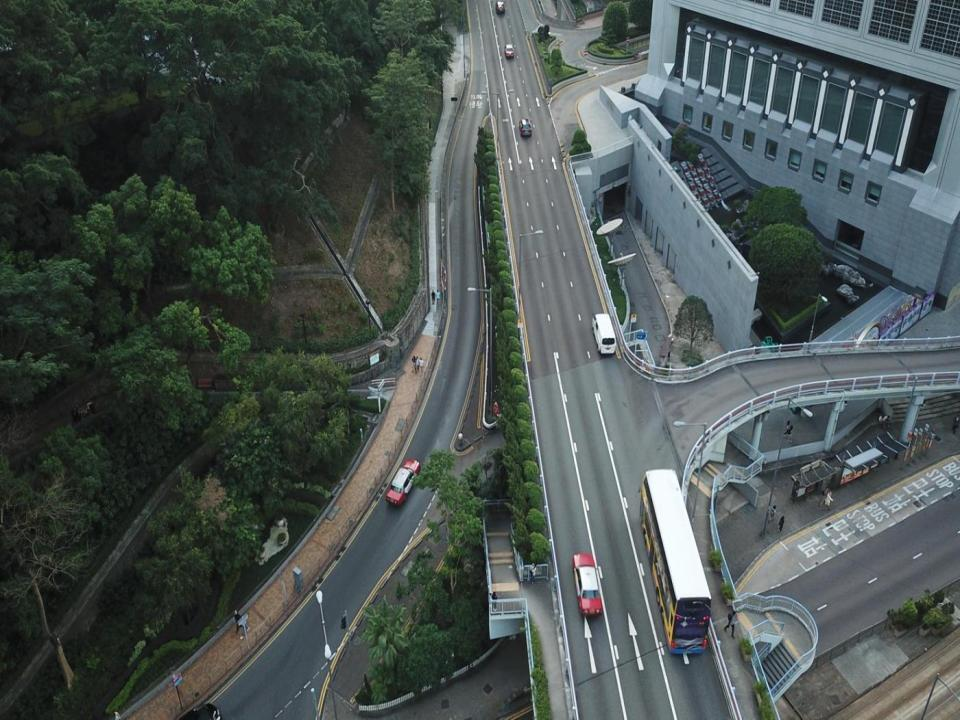bus: (641, 470, 711, 655), (785, 349, 861, 414)
car: (572, 553, 601, 616), (386, 460, 420, 506), (503, 43, 514, 58), (522, 118, 530, 135), (496, 1, 504, 15), (601, 26, 610, 34)
van: (593, 314, 615, 354)
